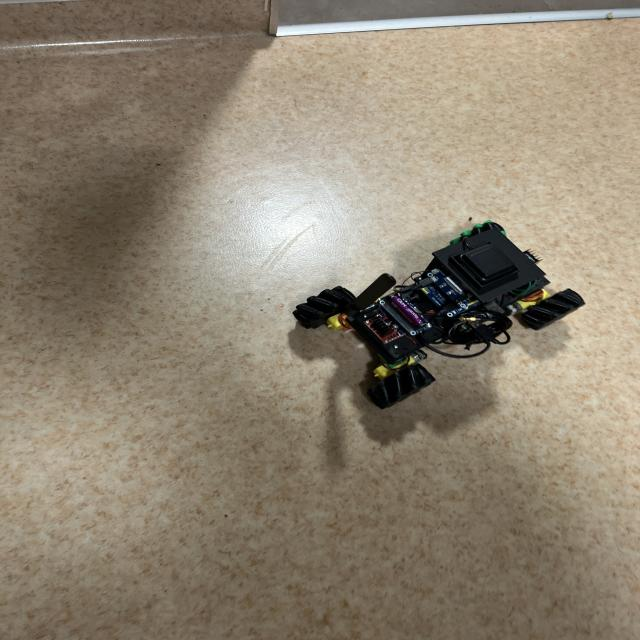robot: (293, 221, 585, 409)
